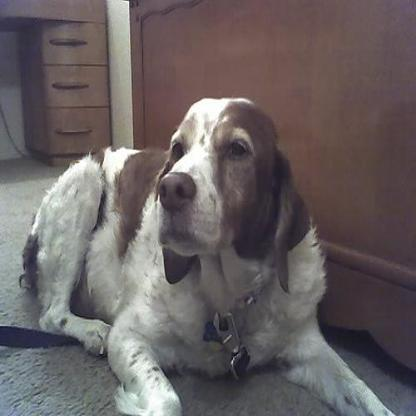Brittany_spaniel: (14, 91, 398, 414)
